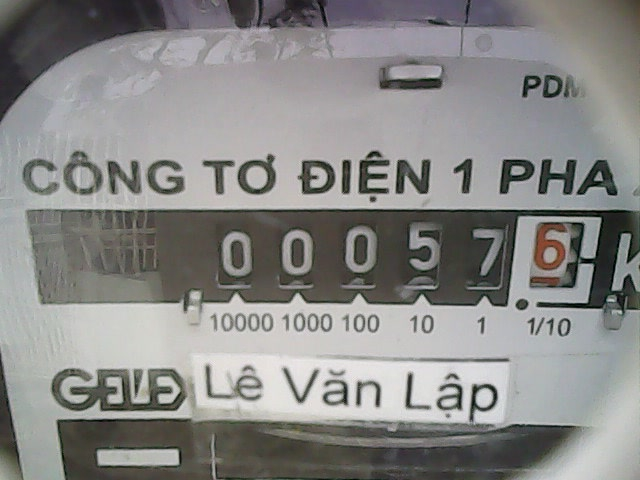phy_plate: (195, 204, 606, 307)
